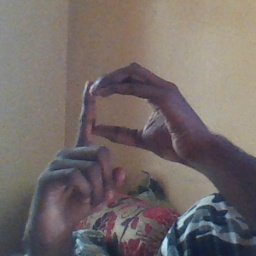P: (46, 61, 188, 202)
